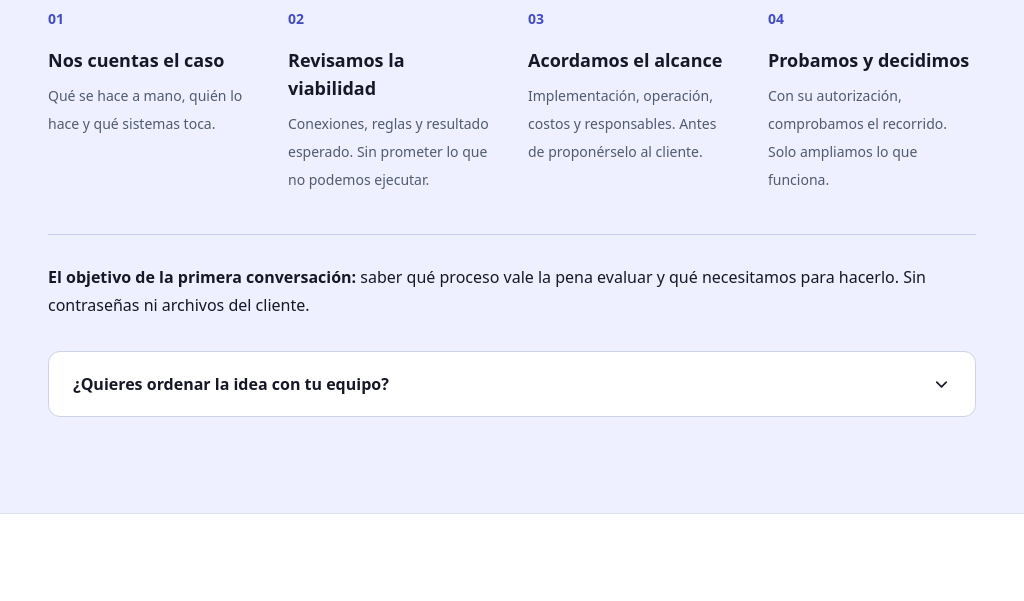
Test: consulting partner experience › changes and copies the brief locally without network, storage or a form submission
(page scrolled)
Click the heading "¿Quieres ordenar la idea con tu equipo?" at [231, 384], box [73, 373, 951, 395]
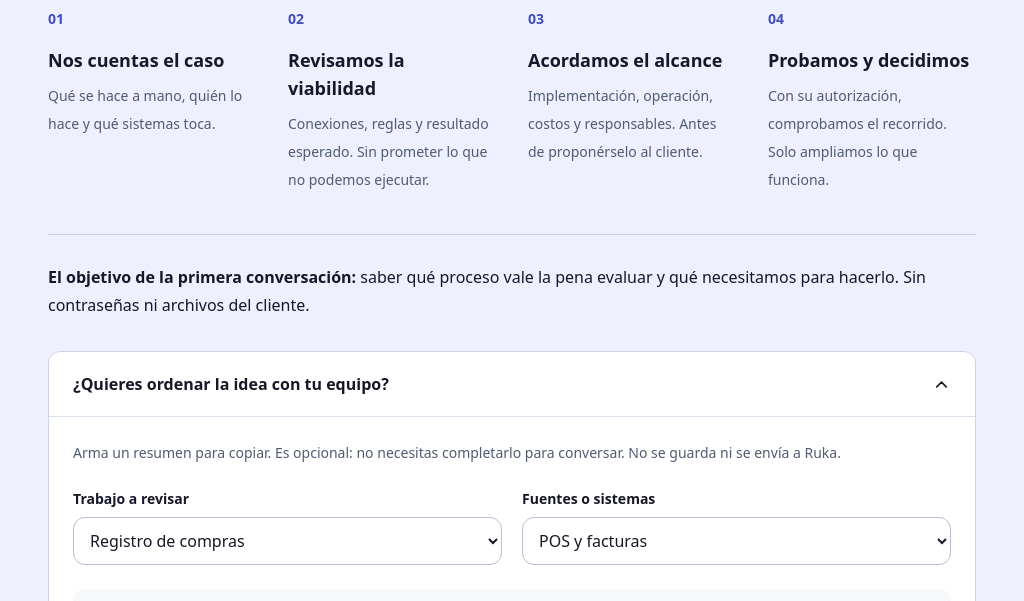
Select "Conciliaciones" in the dropdown labelled "Trabajo a revisar" at [288, 541], box [73, 517, 502, 565]
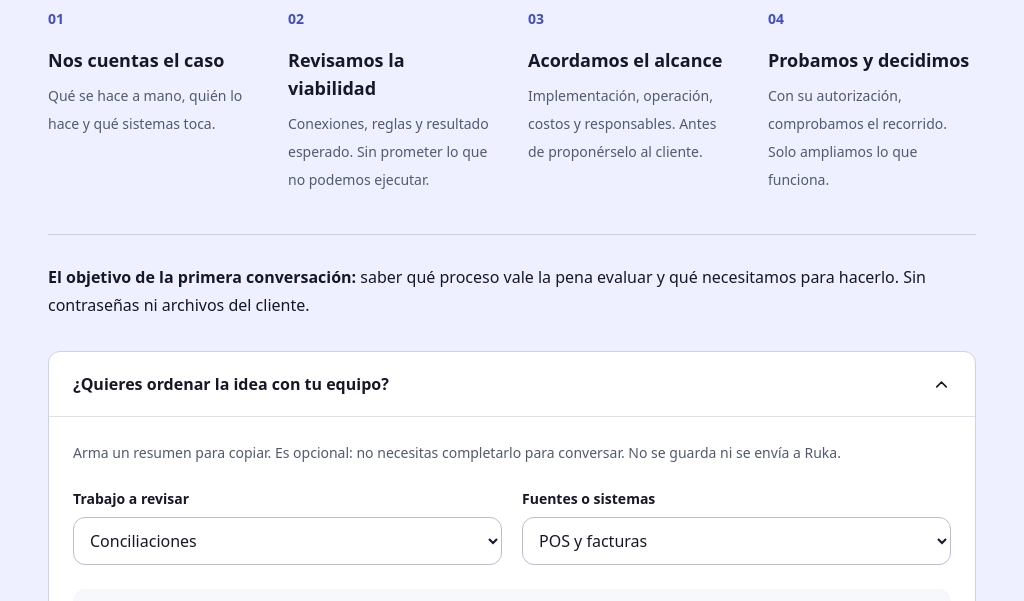
Select "Varios sistemas" in the dropdown labelled "Fuentes o sistemas" at [736, 541], box [522, 517, 951, 565]
(page scrolled)
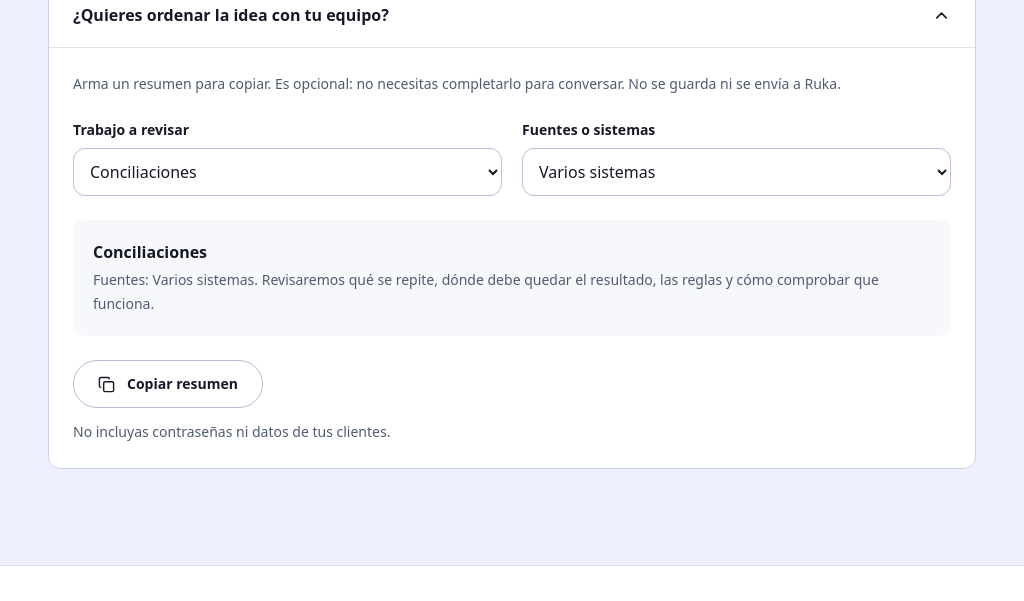
Click the button "Copiar resumen" at [168, 384], box [73, 360, 263, 408]
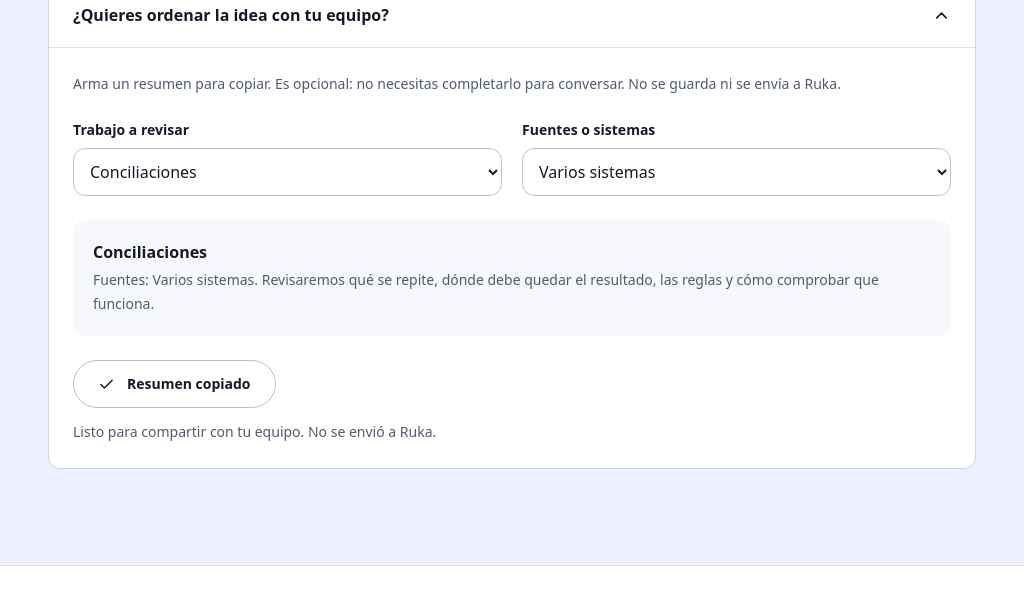
Expected: the message shows "No se envió a Ruka", [73, 422, 436, 441]
Select "Otro proceso recurrente" in the dropdown labelled "Trabajo a revisar" at [288, 172], box [73, 148, 502, 196]
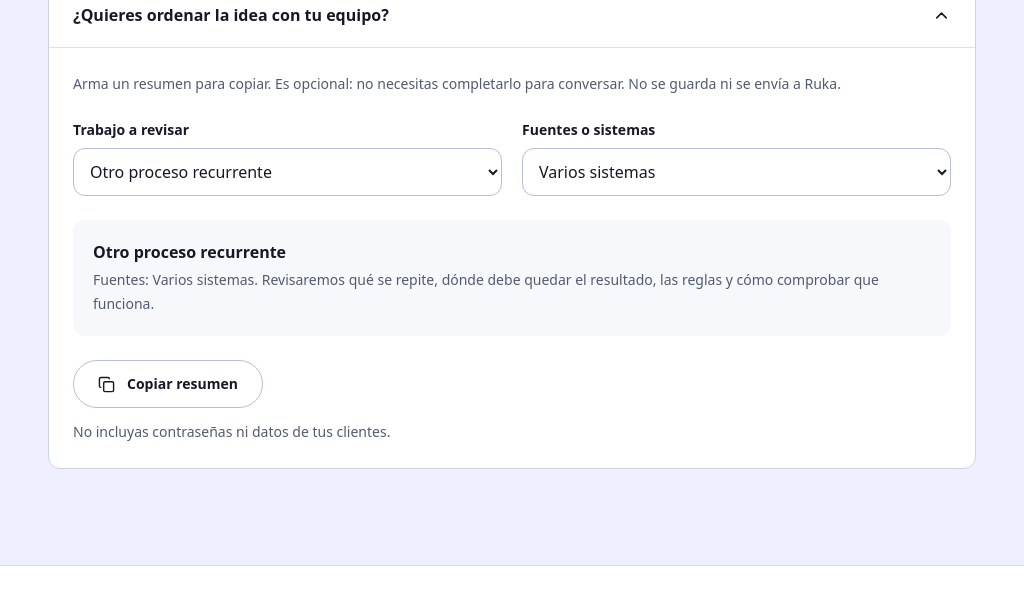
Expected: the button "Copiar resumen" is shown, [73, 360, 263, 408]
